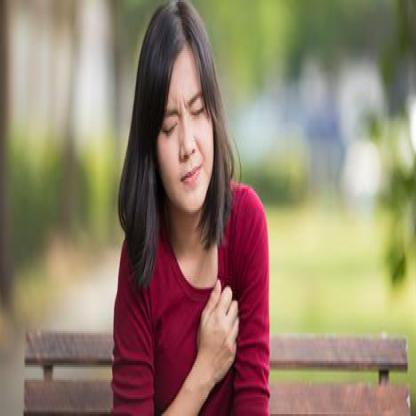pain: (157, 84, 210, 138)
